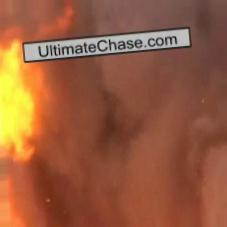fire: (0, 30, 40, 164)
